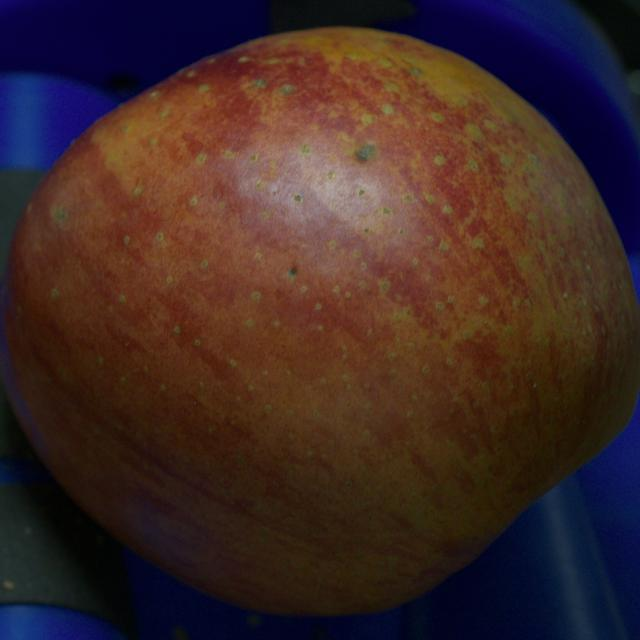apple: (0, 28, 639, 614)
pest: (356, 142, 376, 161), (289, 268, 296, 275)
